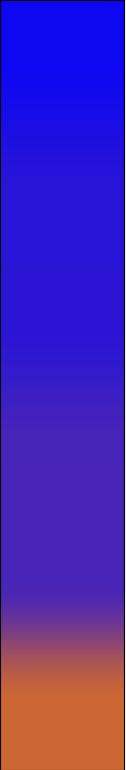critical: (13, 640, 118, 761)
safe: (11, 7, 119, 628)
